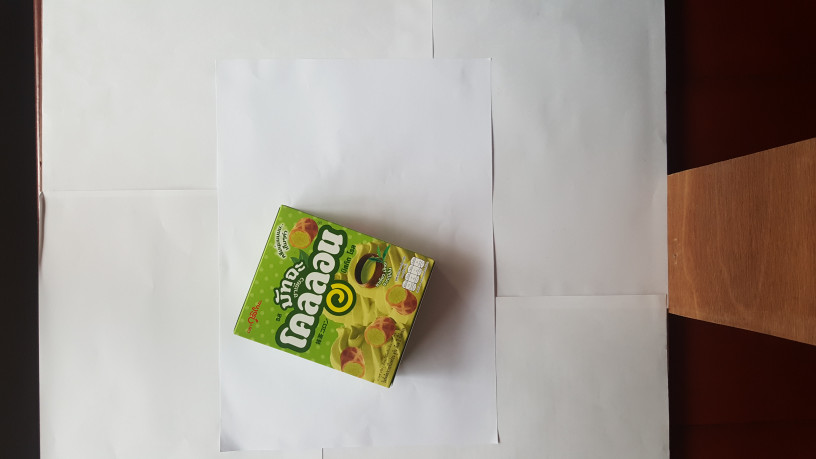collon-matcha: (230, 203, 434, 388)
